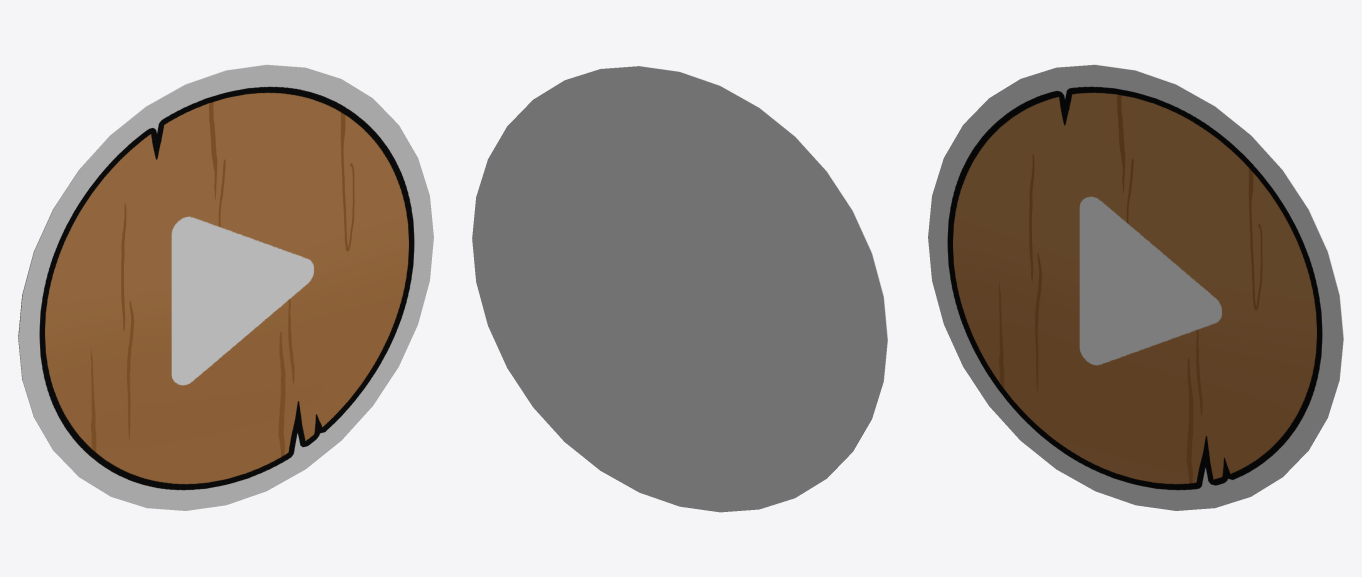
File: Button_Play.glb
The picture shows the model from 3 angles, left to right: view 1: azimuth 30°, elevation 25°; view 2: azimuth 150°, elevation 25°; view 3: azimuth 330°, elevation 25°; orthographic projection.
Visible parts, largest first — view 1: Empty.003, Cylinder.002; view 2: Cylinder.002; view 3: Empty.003, Cylinder.002.
Part boxes in pixels (left/top/right/bottom): Empty.003: left=39, top=86, right=414, bottom=490; Cylinder.002: left=18, top=64, right=433, bottom=510; Cylinder.002: left=472, top=66, right=887, bottom=512; Empty.003: left=947, top=86, right=1322, bottom=490; Cylinder.002: left=928, top=64, right=1343, bottom=510.
Bounding box in the file's own units: 5 × 5 × 0.0241.
Materials: 2 (1 with a texture image).
